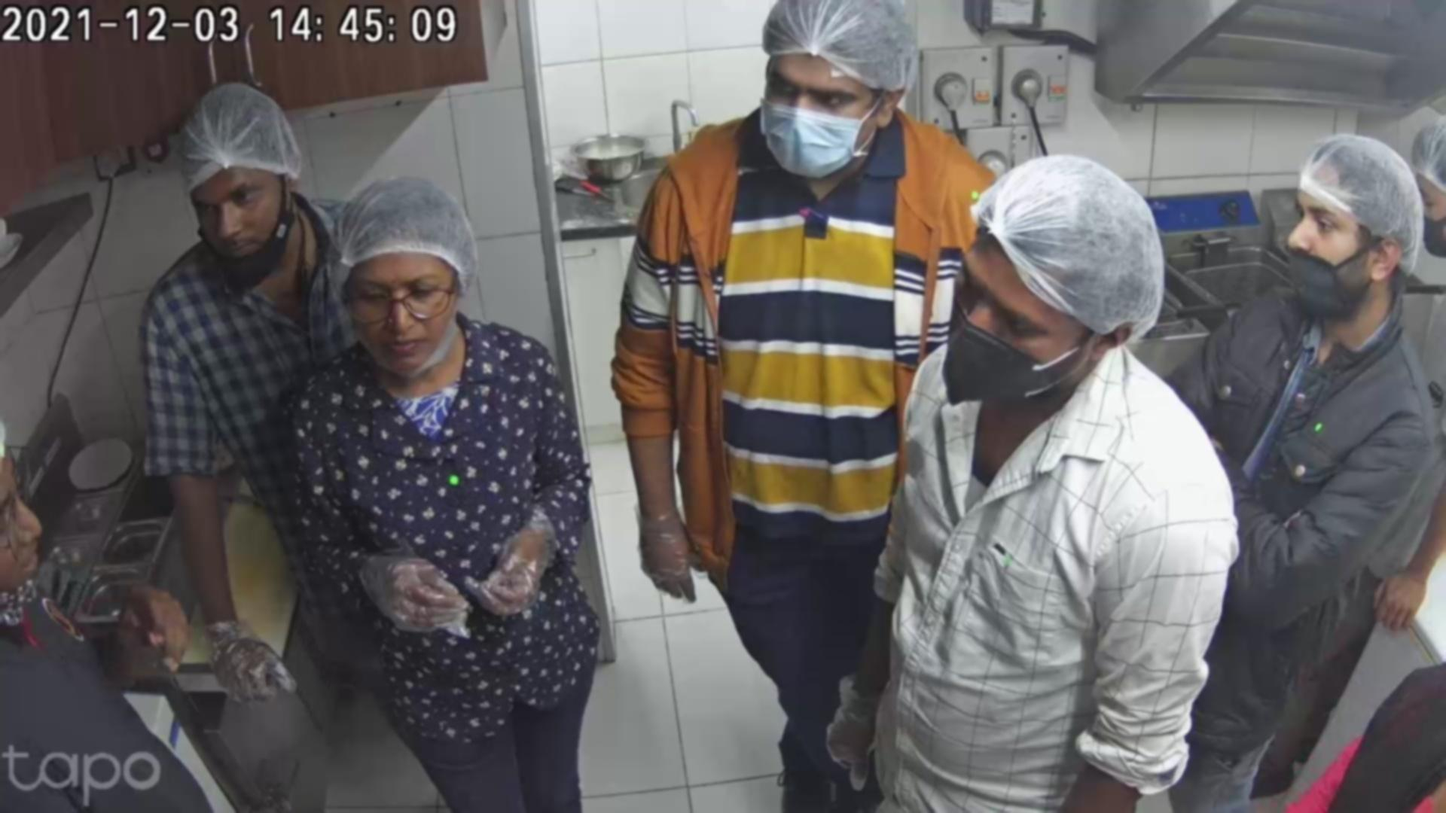apron: (177, 595, 315, 717), (337, 530, 482, 646), (789, 653, 899, 793), (458, 515, 580, 626), (618, 485, 712, 615)
gloves: (967, 144, 1165, 345), (1297, 131, 1433, 283), (746, 0, 931, 108), (335, 164, 486, 285), (156, 81, 314, 194), (1396, 104, 1446, 201)
mask: (938, 279, 1072, 403), (758, 88, 868, 171)
no_apron: (104, 573, 201, 685), (1356, 543, 1446, 658), (0, 505, 64, 643)
no_hairnet: (339, 254, 458, 359), (191, 175, 295, 255), (1283, 189, 1366, 267)
